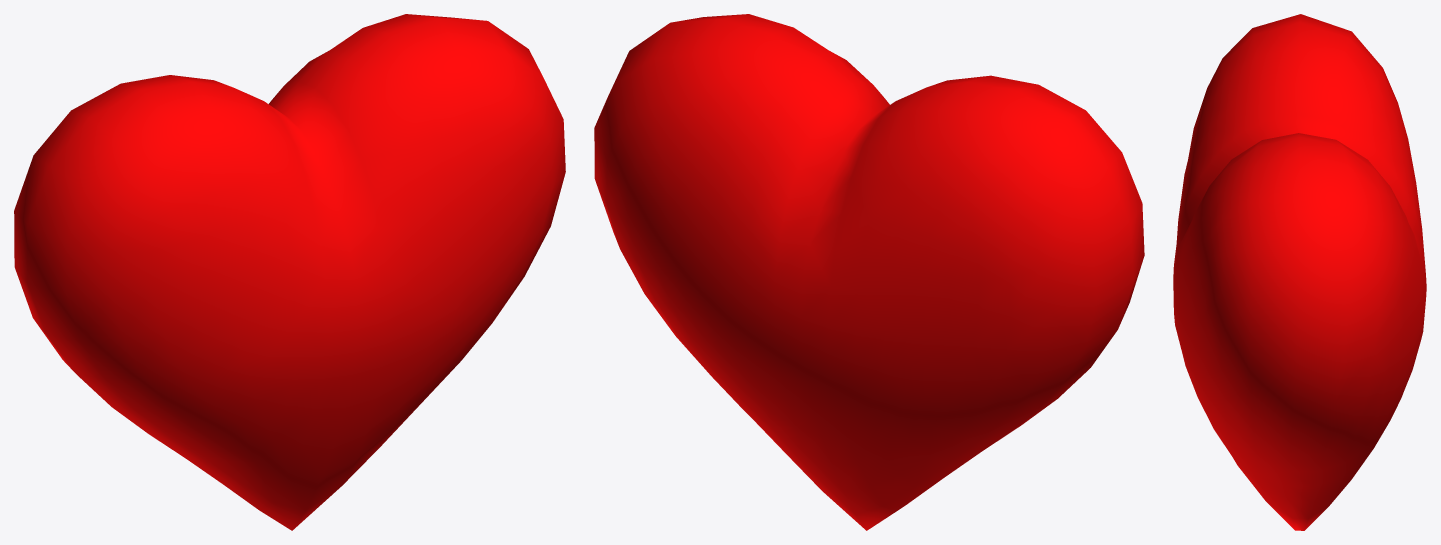
The model's file is Heart_LowPoly.obj.
The picture shows the model from 3 angles, left to right: view 1: azimuth 30°, elevation 25°; view 2: azimuth 150°, elevation 25°; view 3: azimuth 270°, elevation 25°; orthographic projection. The views are drawn at different scales.
Visible parts, largest first — view 1: Heart_01; view 2: Heart_01; view 3: Heart_01.
Part boxes in pixels (x1=…): Heart_01: x1=14, y1=14, x2=565, y2=530; Heart_01: x1=594, y1=14, x2=1144, y2=530; Heart_01: x1=1173, y1=14, x2=1426, y2=530.
Bounding box in the file's own units: 18.83 × 16.22 × 8.44.
